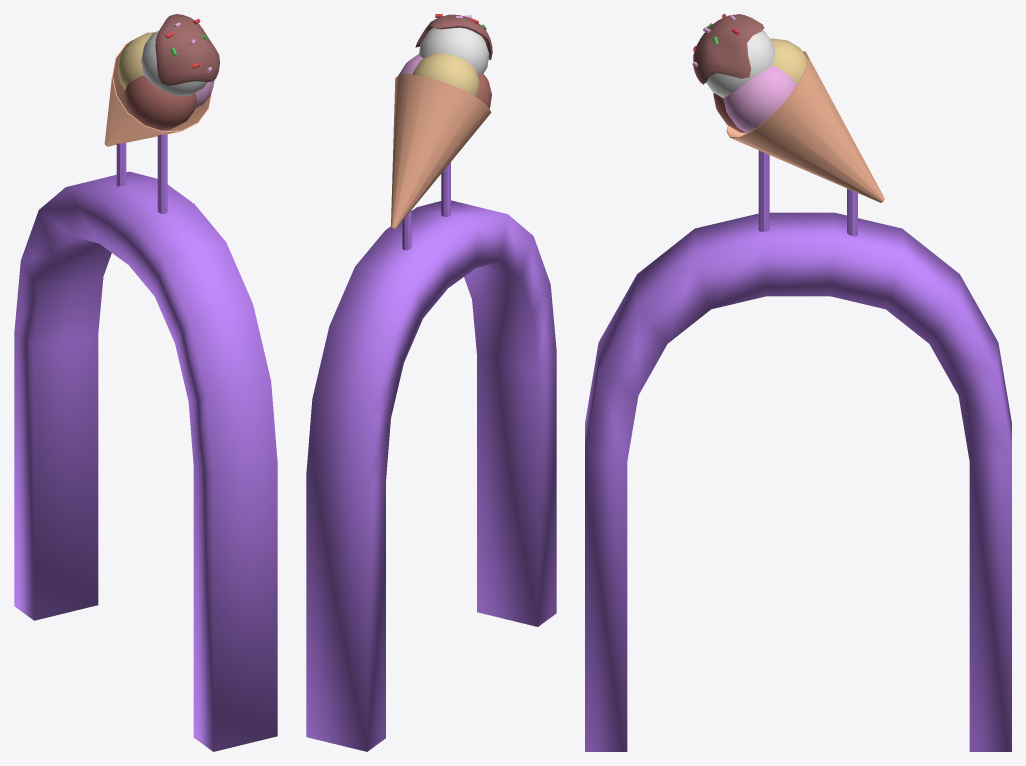
The model's file is portal01_ (1).fbx.
The picture shows the model from 3 angles, left to right: view 1: azimuth 30°, elevation 25°; view 2: azimuth 150°, elevation 25°; view 3: azimuth 270°, elevation 25°; orthographic projection. The views are drawn at different scales.
Parts seen in each view (by area): view 1: portal01_; view 2: portal01_; view 3: portal01_.
Part boxes in pixels (left/top/right/bottom): portal01_: left=14, top=14, right=277, bottom=751; portal01_: left=306, top=14, right=556, bottom=751; portal01_: left=585, top=14, right=1011, bottom=751.
Bounding box in the file's own units: 41.3 × 284 × 153.
